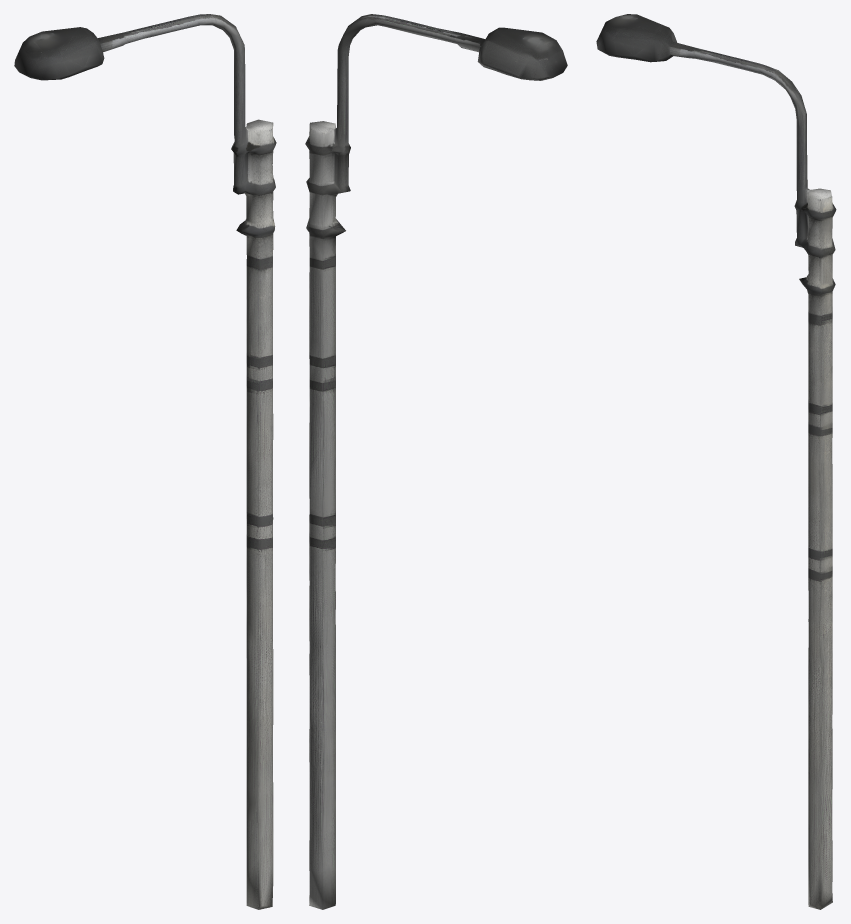
The model's file is Lone_Street_Lamp_on_Hex_post.glb.
3 renders of one model, left to right at view 1: azimuth 30°, elevation 25°; view 2: azimuth 150°, elevation 25°; view 3: azimuth 330°, elevation 25°, orthographic. The views are drawn at different scales.
Size of the model in its own units: 0.5581 by 1.91 by 0.1276.
1 material, 1 textured.
